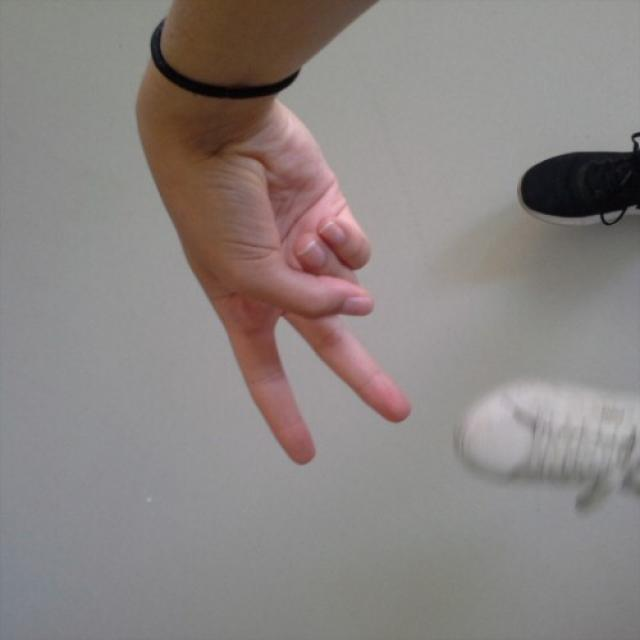scissors: (195, 144, 412, 468)
